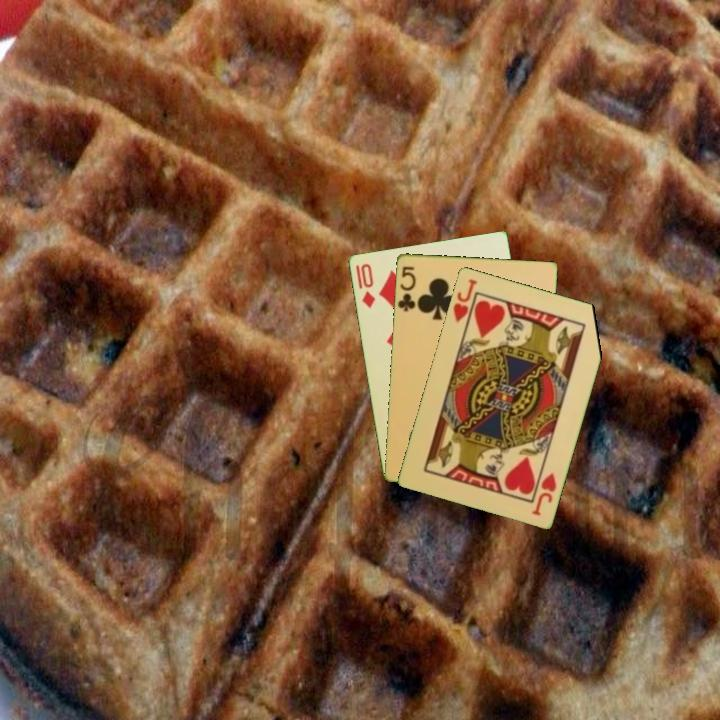10d: (357, 260, 378, 310)
5c: (394, 262, 418, 314)
Jh: (449, 275, 480, 325), (528, 469, 559, 518)
